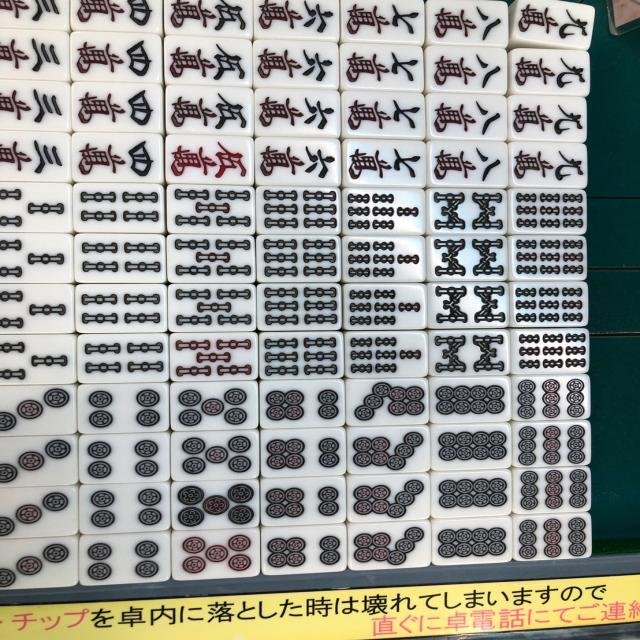bamboos_4: (74, 283, 168, 334), (77, 331, 170, 382), (72, 233, 166, 283), (72, 182, 165, 232)
bamboos_5: (164, 234, 258, 285), (164, 183, 258, 233), (166, 283, 260, 333), (168, 332, 262, 382)
bamboos_6: (256, 330, 345, 380), (254, 184, 342, 234), (255, 234, 343, 284), (253, 281, 341, 331)
bamboos_7: (338, 184, 427, 234), (340, 330, 429, 380), (339, 234, 427, 284), (341, 280, 429, 330)
bamboos_8: (428, 329, 512, 378), (426, 186, 509, 235), (428, 234, 511, 282), (428, 281, 511, 329)
bamboos_9: (507, 186, 587, 234), (510, 279, 590, 327), (509, 233, 588, 281), (510, 328, 589, 376)
characters_4: (70, 132, 165, 183), (70, 81, 165, 132), (68, 31, 162, 81)
characters_5: (163, 132, 255, 186), (163, 83, 254, 137), (163, 32, 253, 86)
characters_6: (252, 37, 340, 90), (252, 86, 340, 138), (255, 135, 342, 187)
characters_7: (339, 41, 425, 92), (341, 138, 427, 189), (341, 90, 427, 140)
characters_8: (425, 138, 511, 189), (423, 44, 508, 94), (424, 93, 508, 143)
characters_9: (508, 48, 590, 95), (508, 95, 590, 142), (506, 142, 588, 189)
circles_4: (76, 382, 170, 433), (76, 432, 170, 483), (78, 482, 172, 533), (76, 533, 170, 584)
circles_5: (168, 379, 262, 430), (170, 480, 264, 531), (172, 529, 265, 580), (169, 431, 262, 481)
circles_6: (260, 380, 348, 430), (259, 427, 347, 477), (258, 474, 346, 524), (257, 524, 345, 574)
circles_7: (343, 424, 432, 474), (342, 472, 431, 522), (344, 522, 433, 572), (344, 376, 432, 426)
circles_8: (432, 469, 516, 518), (428, 377, 511, 426), (430, 516, 513, 564), (432, 423, 514, 471)
circles_9: (512, 421, 592, 469), (511, 467, 591, 515), (511, 374, 590, 422), (512, 512, 591, 560)
